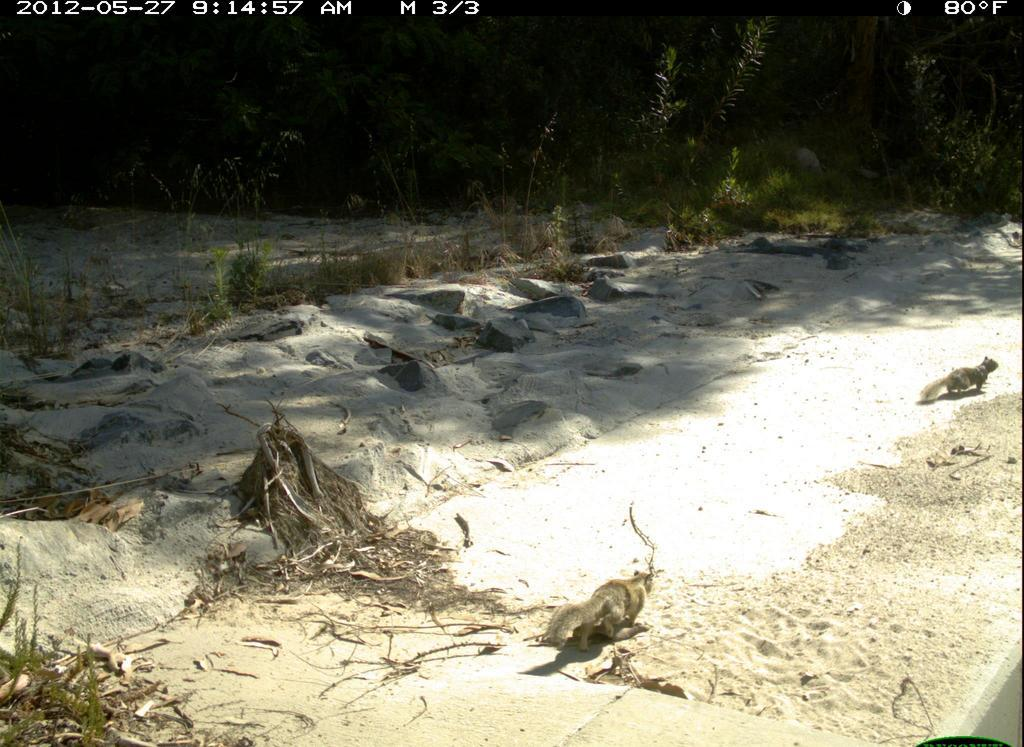squirrel: (533, 562, 660, 664), (911, 351, 1004, 415)
